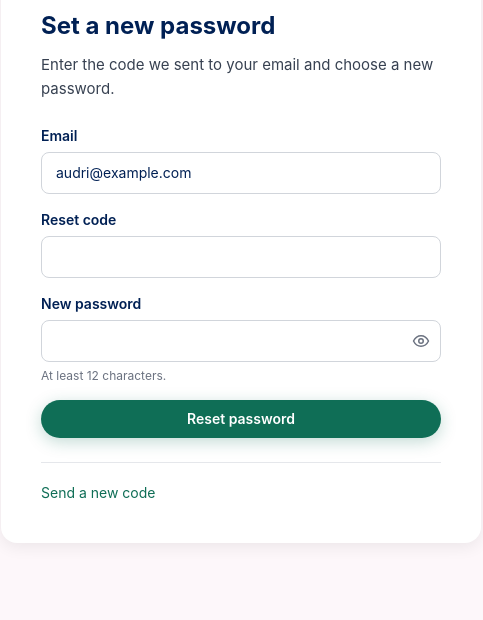
Test case: ResetForgottenPasswordForm › surfaces a network-level error for non-ApiError throws
In the field labelled "Reset code": (241, 257) [41,236,441,278], type "123456"
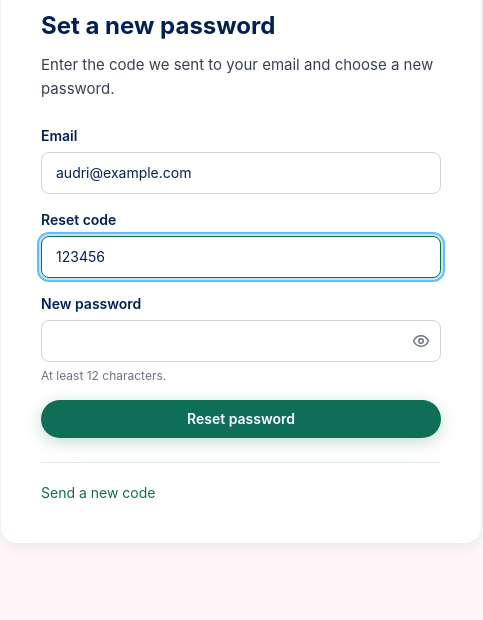
In the password field labelled "New password": (241, 341) [41,320,441,362], type "Strong!Pass99"
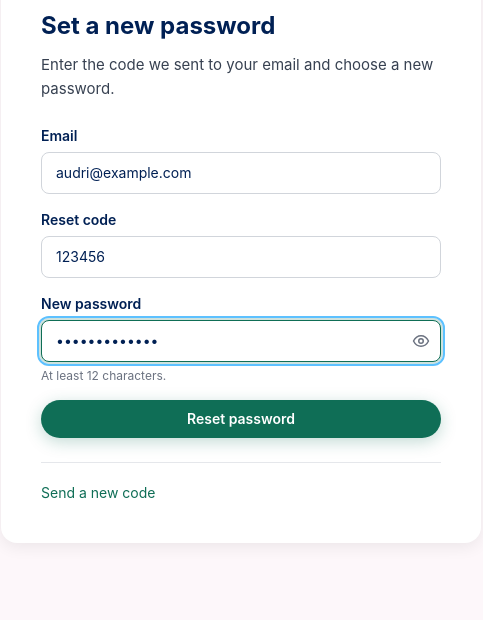
Click the button "Reset password": (241, 419) [41,400,441,438]
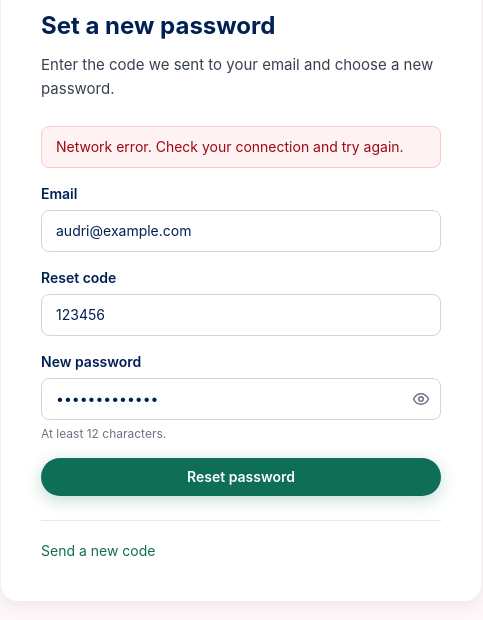
Expected: the text "Network error. Check your connection and try again." is shown, [41,126,441,168]
